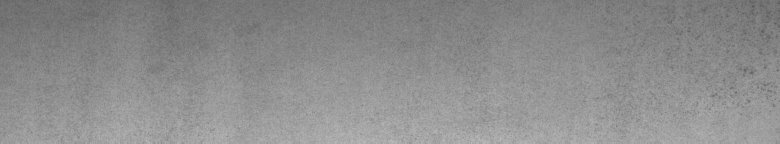ib: (676, 31, 776, 108)
